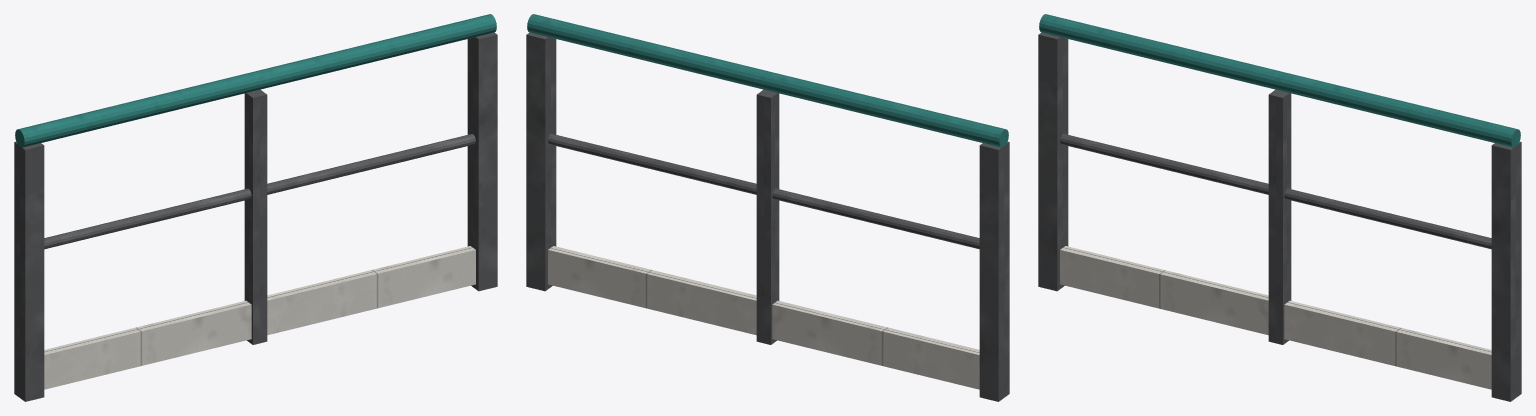
Rendered from railing.glb.
The picture shows the model from 3 angles, left to right: view 1: azimuth 30°, elevation 25°; view 2: azimuth 150°, elevation 25°; view 3: azimuth 330°, elevation 25°; orthographic projection.
Parts seen in each view (by area): view 1: Railing_gunmetal, Railing_whitePanels, Railing_teal; view 2: Railing_gunmetal, Railing_whitePanels, Railing_teal; view 3: Railing_gunmetal, Railing_whitePanels, Railing_teal.
Boxes of the visible parts, bbox=[...] form: Railing_gunmetal: bbox=[14, 32, 497, 401]; Railing_whitePanels: bbox=[44, 246, 475, 389]; Railing_teal: bbox=[15, 14, 496, 147]; Railing_gunmetal: bbox=[526, 32, 1009, 401]; Railing_whitePanels: bbox=[548, 246, 979, 389]; Railing_teal: bbox=[527, 14, 1008, 147]; Railing_gunmetal: bbox=[1038, 32, 1521, 401]; Railing_whitePanels: bbox=[1060, 246, 1491, 389]; Railing_teal: bbox=[1039, 14, 1520, 147].
Bounding box in the file's own units: 2 × 1.09 × 0.08.
3 materials, 3 textured.
